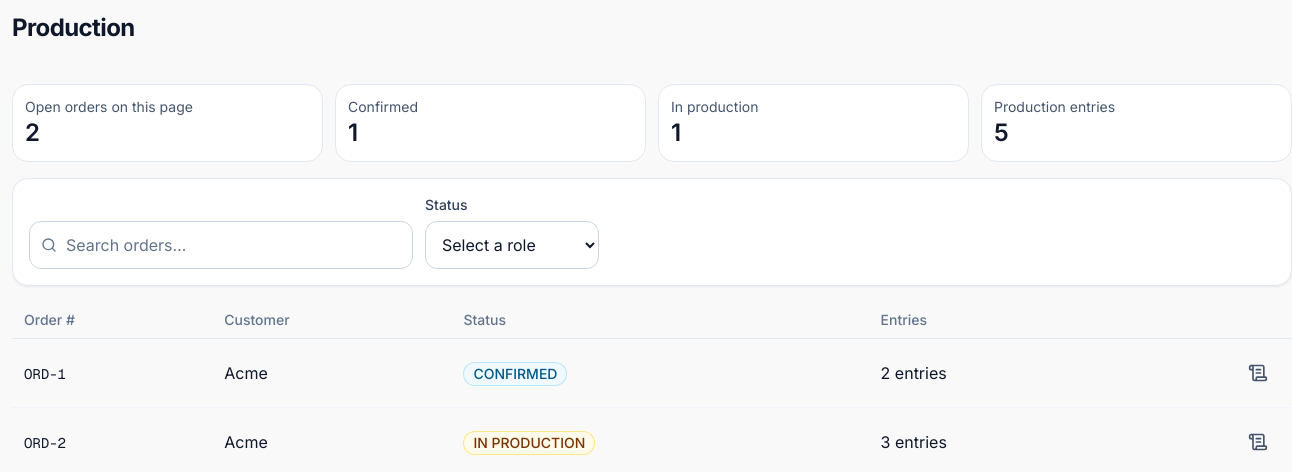
ProductionScreen list › renders rows, View Logs icon link, KPI cards and filters
Expected: the element named "Production summary" is shown, x1=12 y1=84 x2=1291 y2=162
Expected: the text "Production entries" is shown, x1=994 y1=98 x2=1115 y2=115
Select "IN PRODUCTION" in the dropdown labelled "Status" at coordinates (512, 245), box x1=425 y1=221 x2=599 y2=269
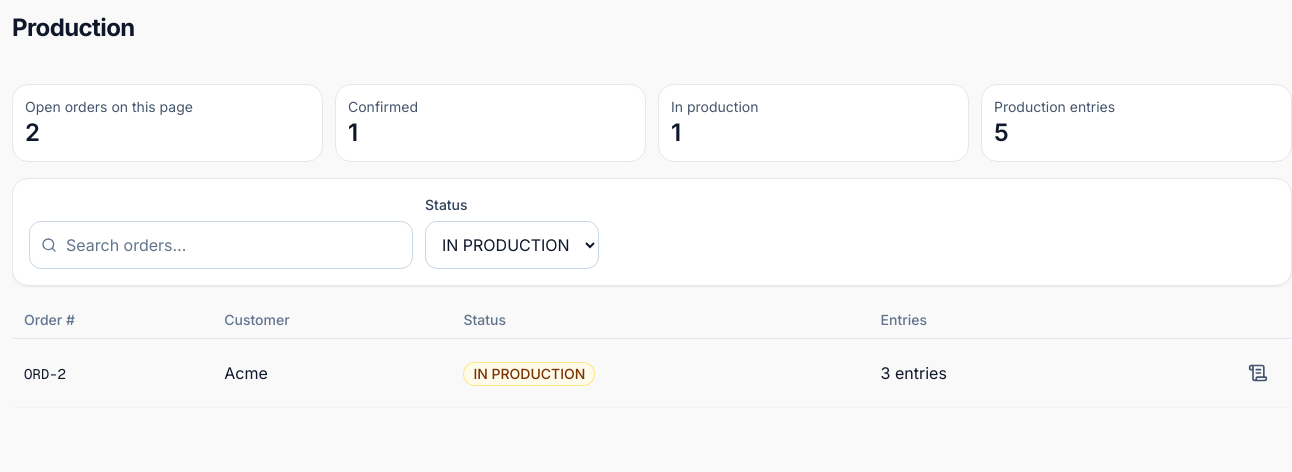
Expected: the text "ORD-1" is not shown
